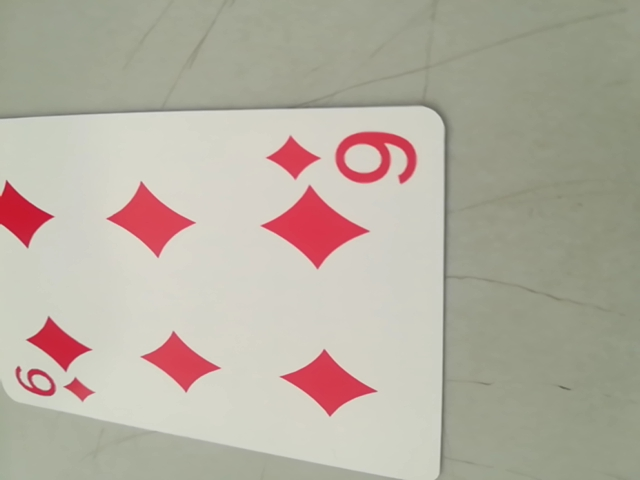fk 6: (269, 126, 416, 194), (8, 365, 96, 408)
